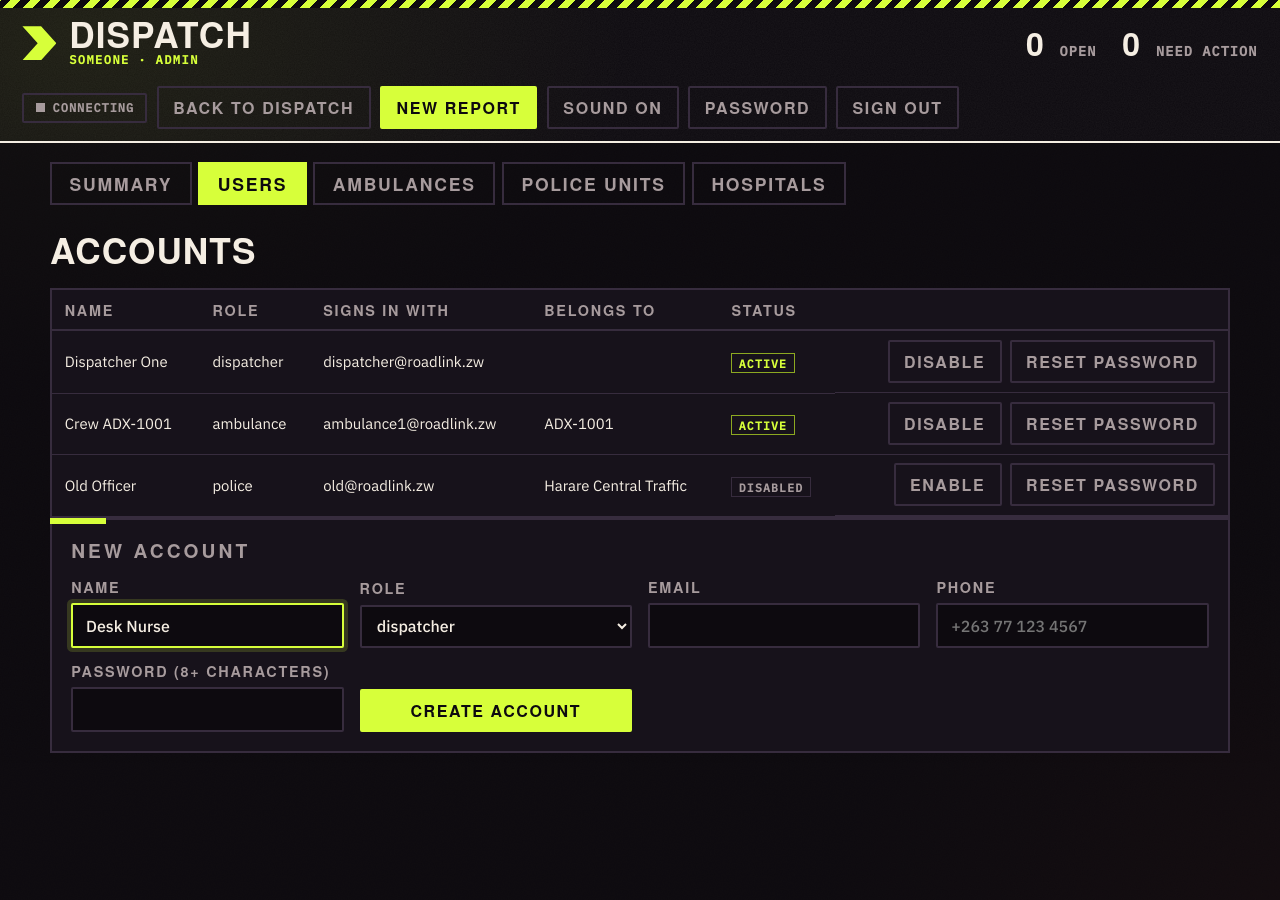
accounts › will not create a hospital account without choosing the hospital, or a short password
The width and height of the screenshot is (1280, 900).
Earlier steps of the test are not shown.
Later steps or results of the test are not shown.
Select "hospital" in the dropdown labelled "Role". click: (496, 626)
box: [360,605,632,648]
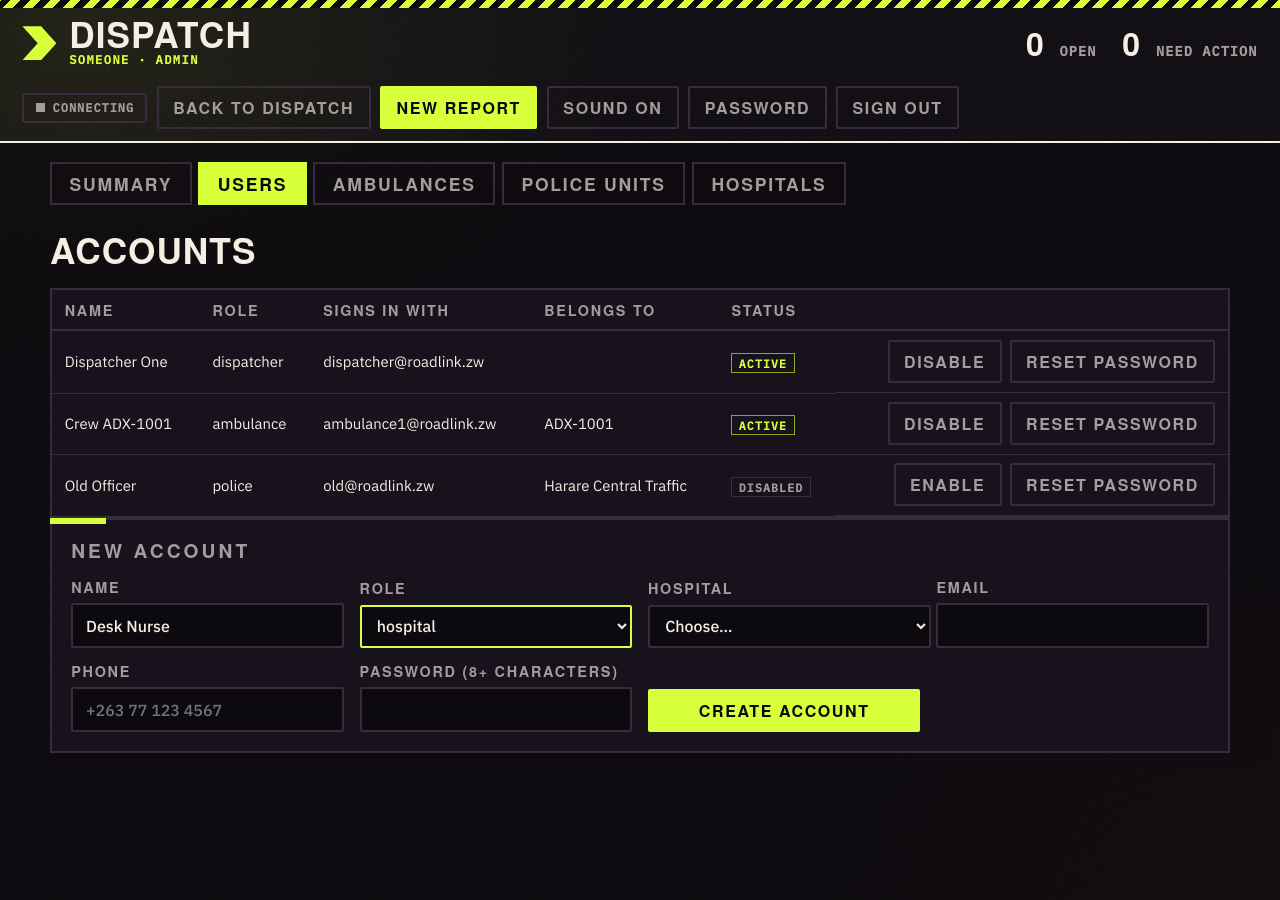
Type "nurse@hosp.zw" into the field labelled "Email". click: (1073, 626)
box: [936,603,1209,648]
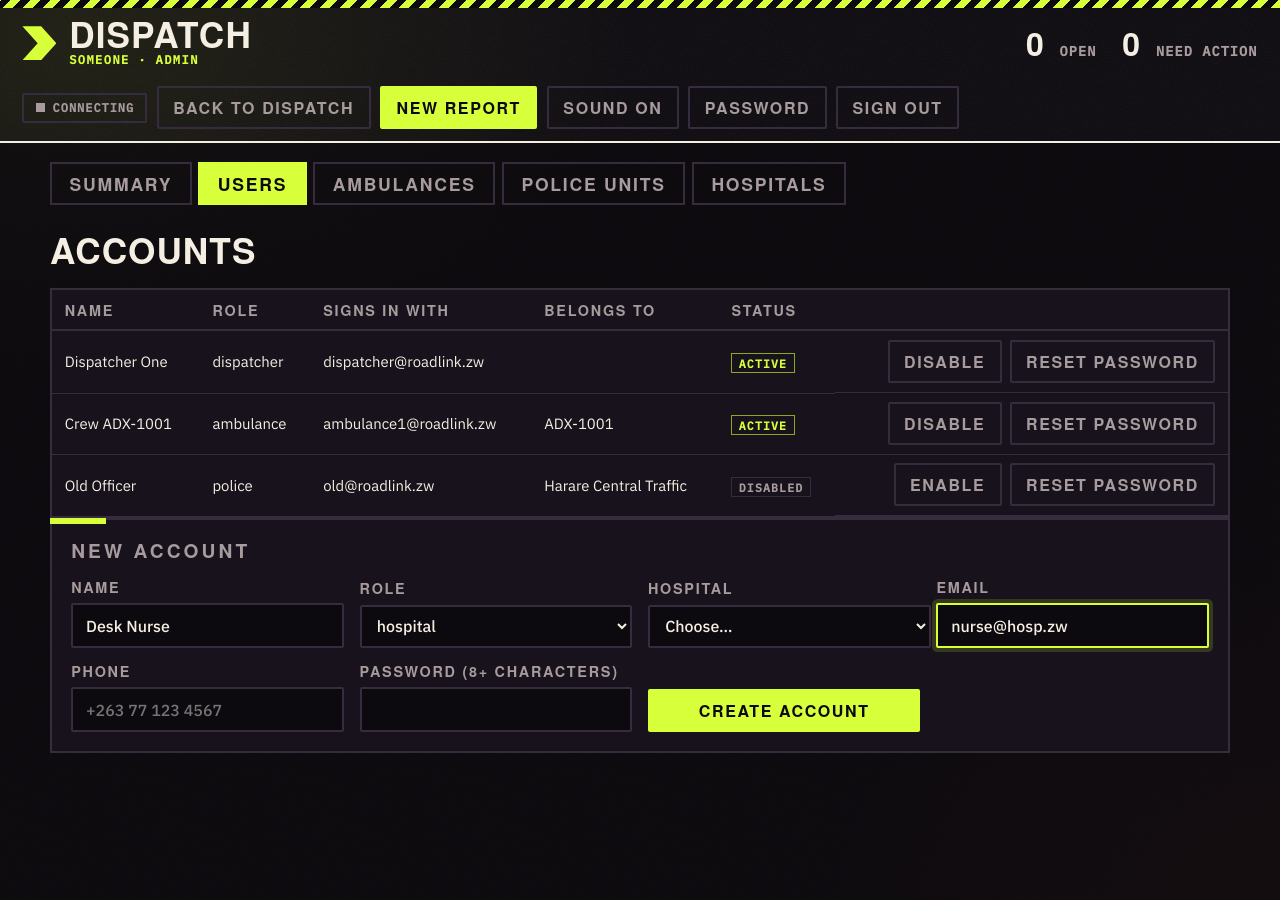
Type "short" into the password field labelled "Password (8+ characters)". click: (496, 710)
box: [360,687,632,732]
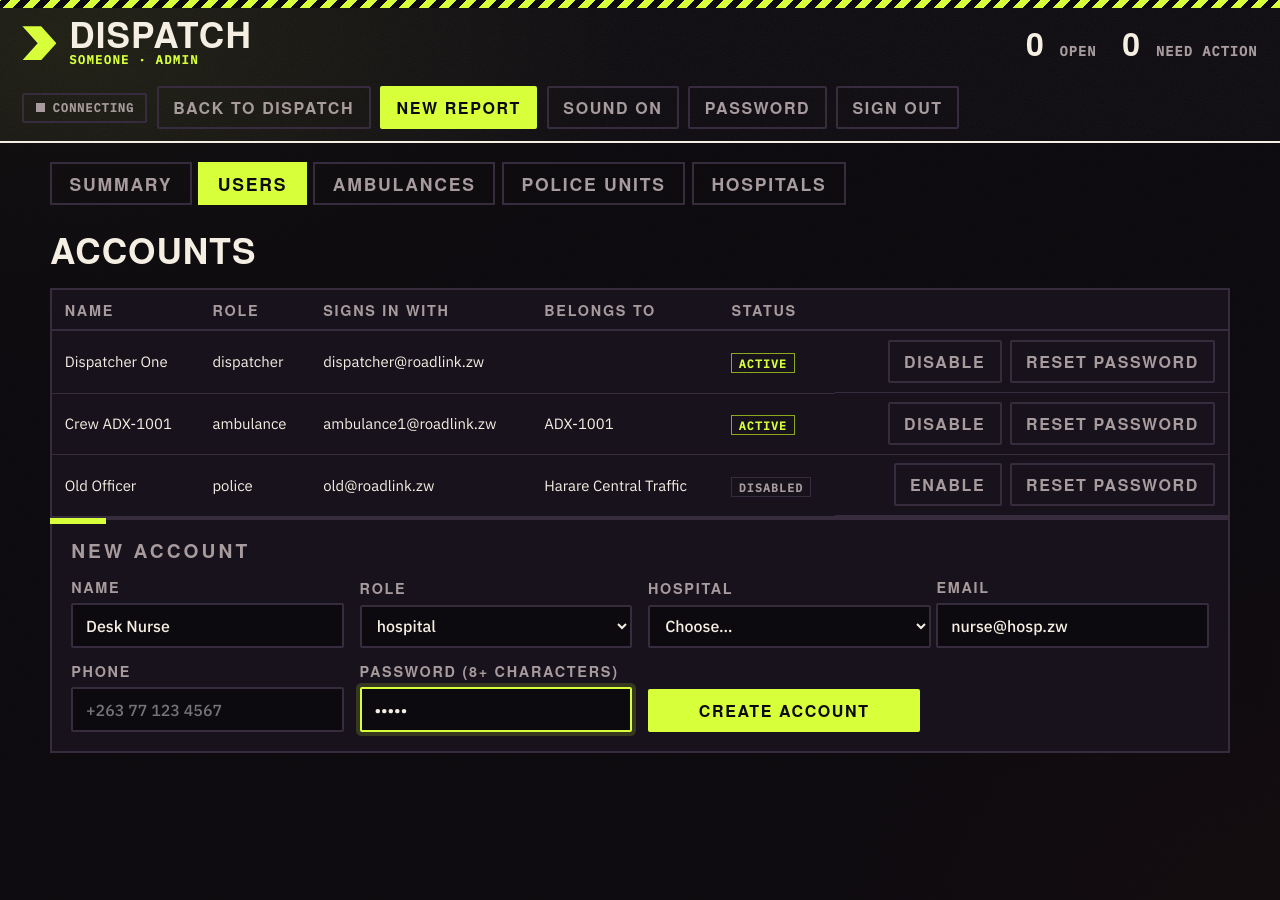
Click the button "Create account". click: (784, 711)
box: [648,689,920,732]
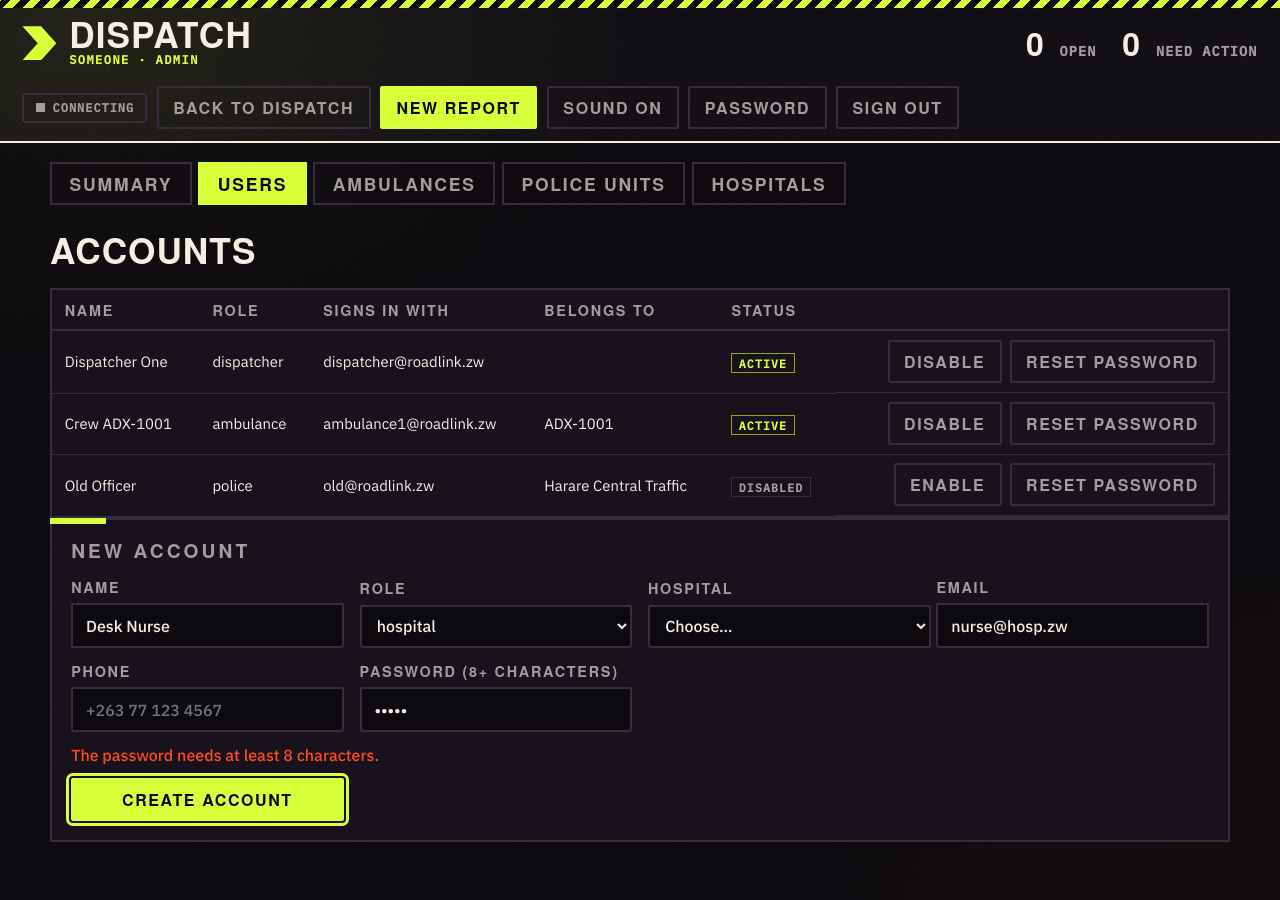
expect the message shows "at least 8 characters": met, box [71,745,379,765]
Type "longenough1" into the password field labelled "Password (8+ characters)". click: (496, 710)
box: [360,687,632,732]
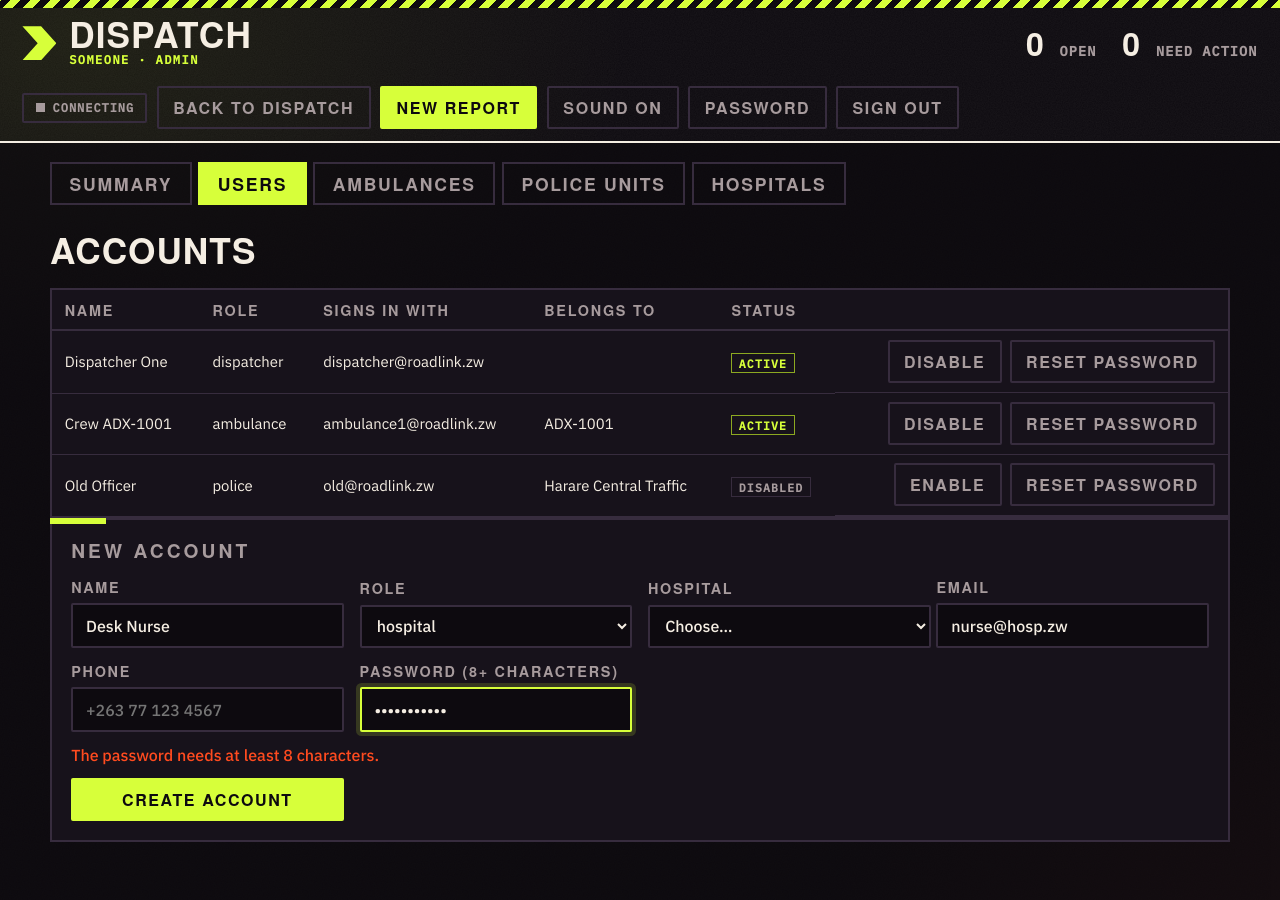
Click the button "Create account". click: (207, 799)
box: [71,778,344,821]
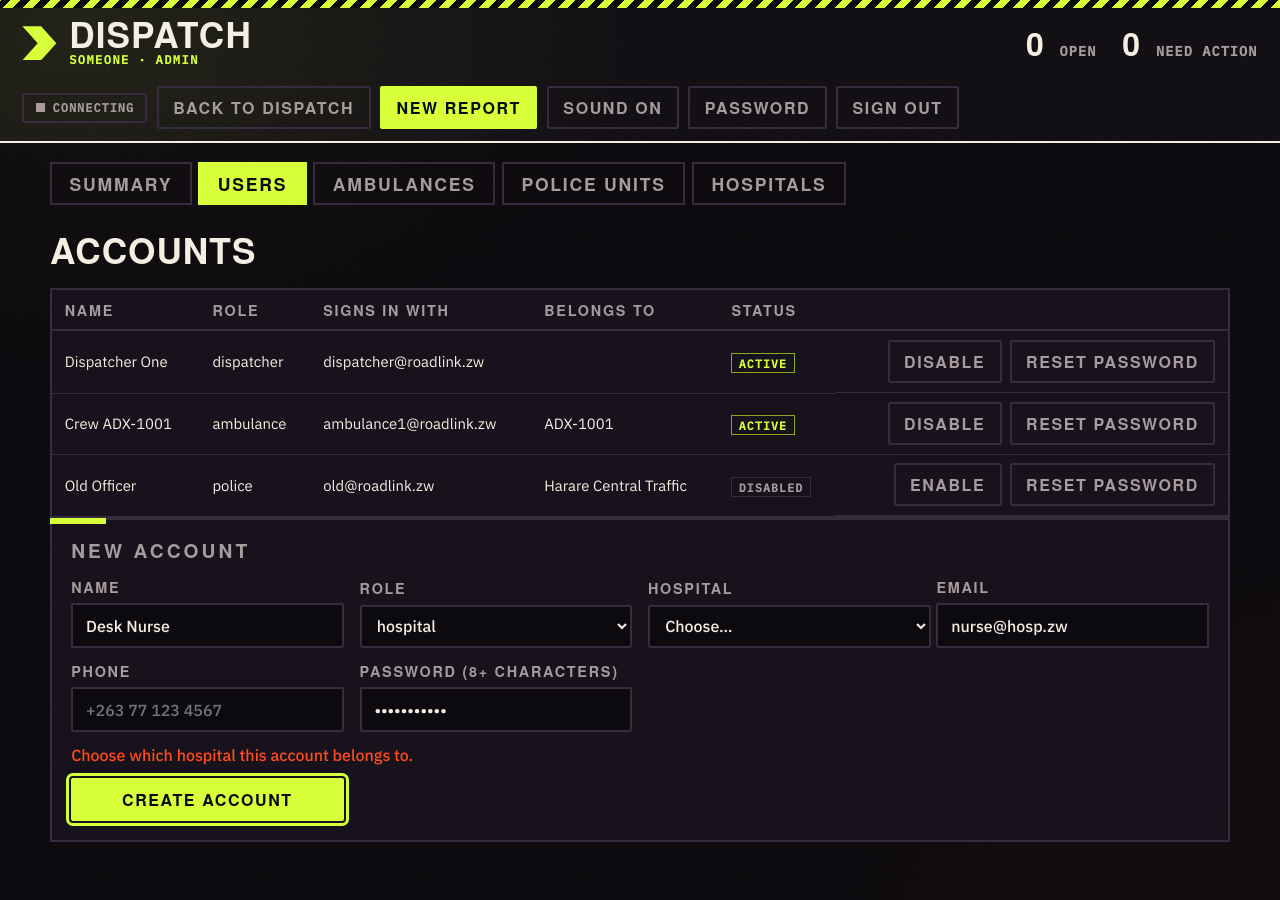
expect the message shows "Choose which hospital": met, box [71,745,413,765]
